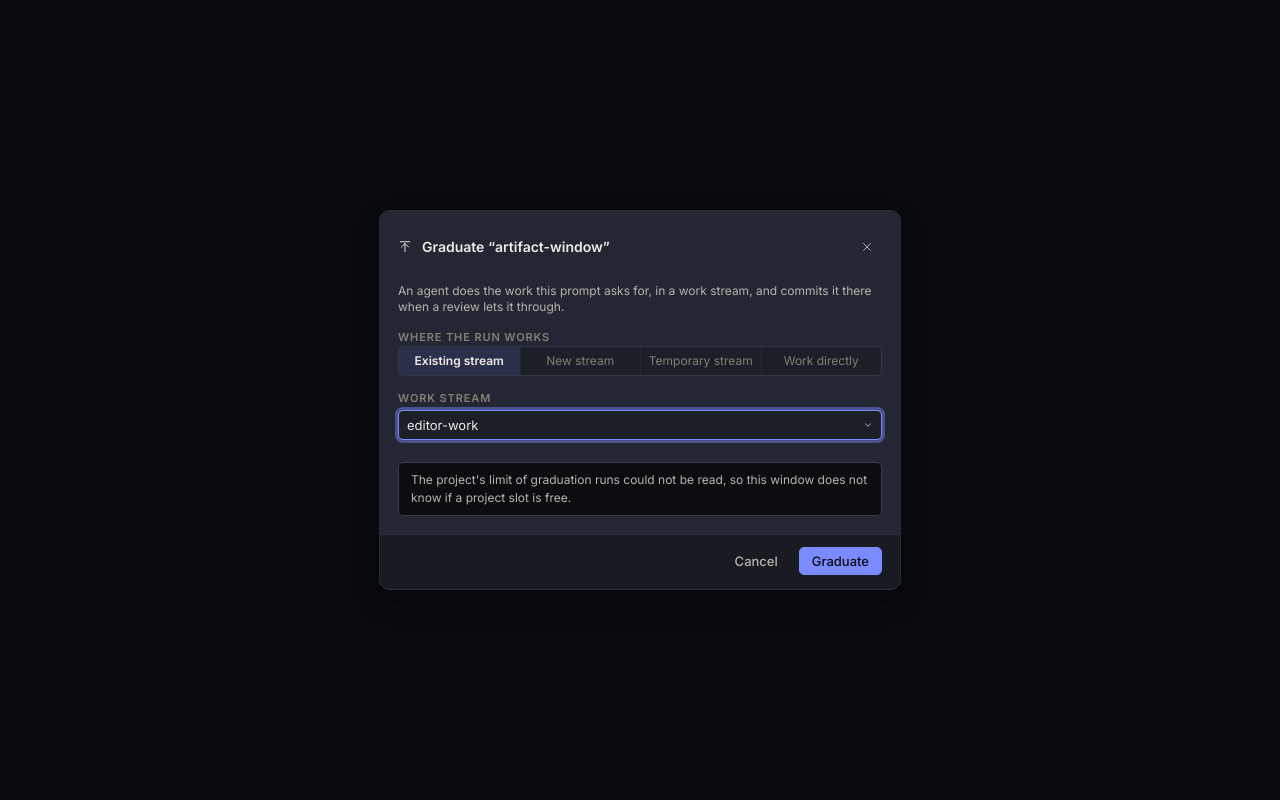
Test: a start refused for a missing Docker socket (GSD-FR-BXKR) › GSD-FR-BXKR, GSD-FR-JYRP, GSU-FR-RQDS: the dialog stays open, names the path and the action, and keeps the answers
The width and height of the screenshot is (1280, 800).
Expected: the dropdown labelled "Work stream" is shown, left=398, top=410, right=882, bottom=440
Click the button with test id "graduation-start-confirm" at coordinates (840, 561), box left=799, top=547, right=882, bottom=575
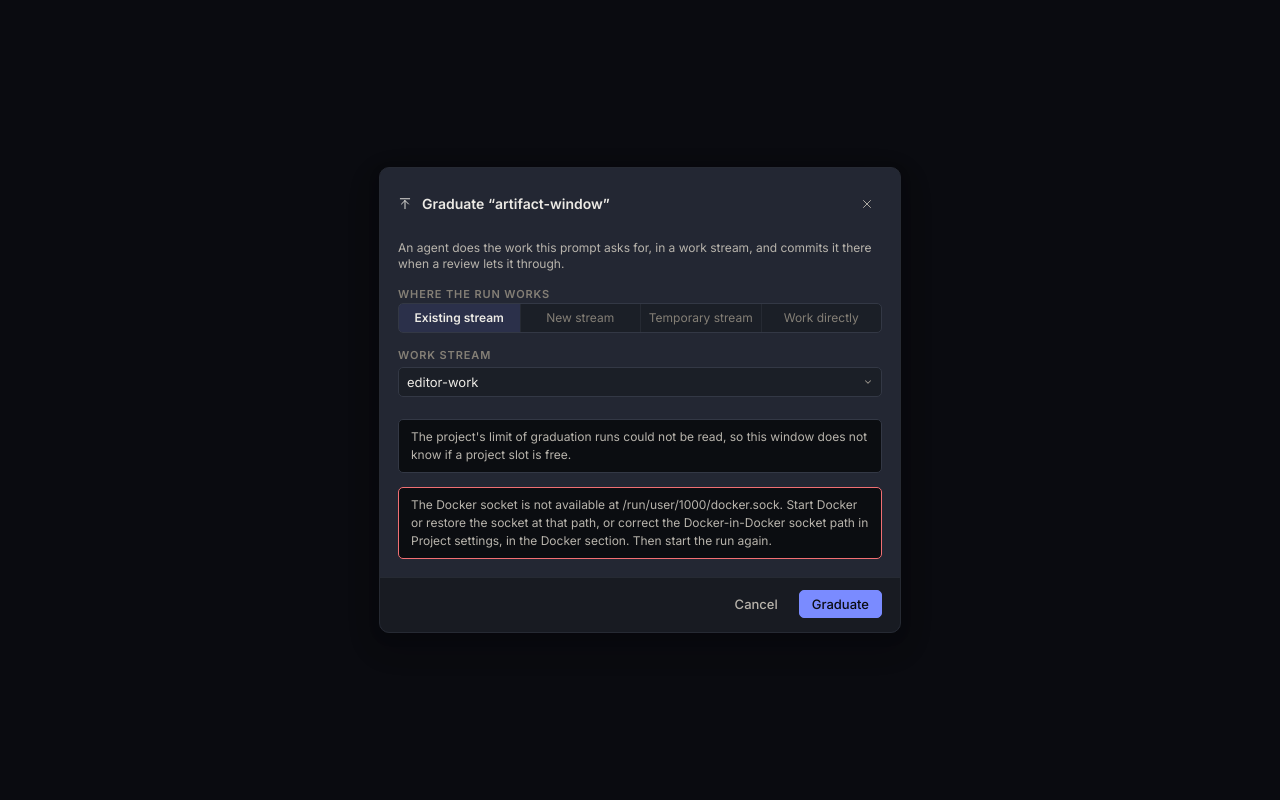
Now the message with test id "graduation-start-error" shows "/run/user/1000/docker.sock", box left=411, top=497, right=868, bottom=548
Now the message with test id "graduation-start-error" shows "Start Docker or restore the socket", box left=411, top=497, right=868, bottom=548
Now the message with test id "graduation-start-error" shows "Project settings", box left=411, top=497, right=868, bottom=548
